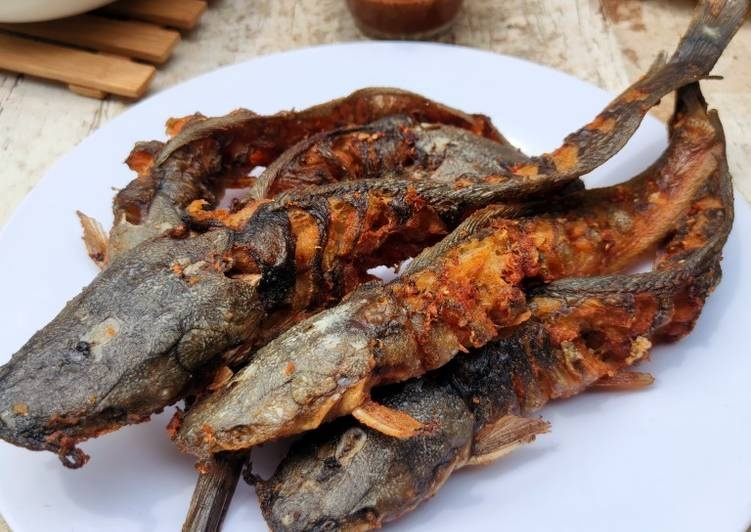pecel_lele: (5, 15, 717, 449), (151, 202, 696, 453)
